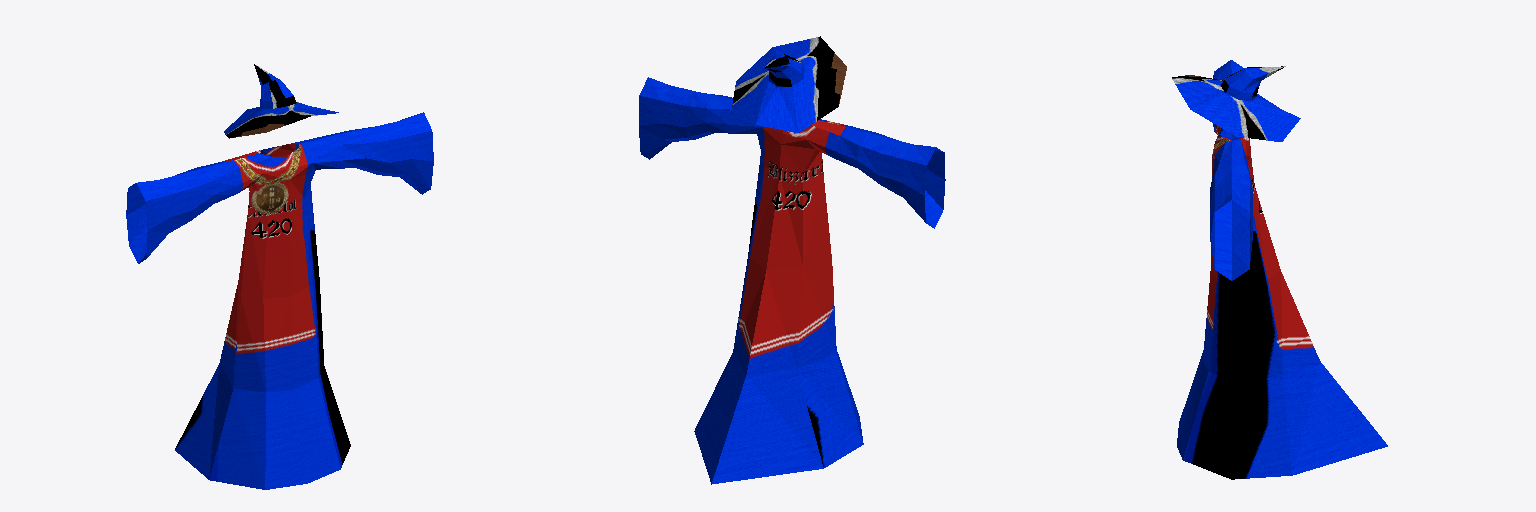
The picture shows the model from 3 angles: view 1: azimuth 30°, elevation 25°; view 2: azimuth 150°, elevation 25°; view 3: azimuth 270°, elevation 25°; orthographic projection.
Parts seen in each view (by area): view 1: Cylinder01; view 2: Cylinder01; view 3: Cylinder01.
Boxes of the visible parts, x1,y1,x2,y2 form: Cylinder01: [126, 64, 433, 489]; Cylinder01: [639, 36, 945, 484]; Cylinder01: [1172, 60, 1387, 479].
Size of the model in its own units: 20.09 by 25.34 by 13.14.
Materials: 1 (1 with a texture image).